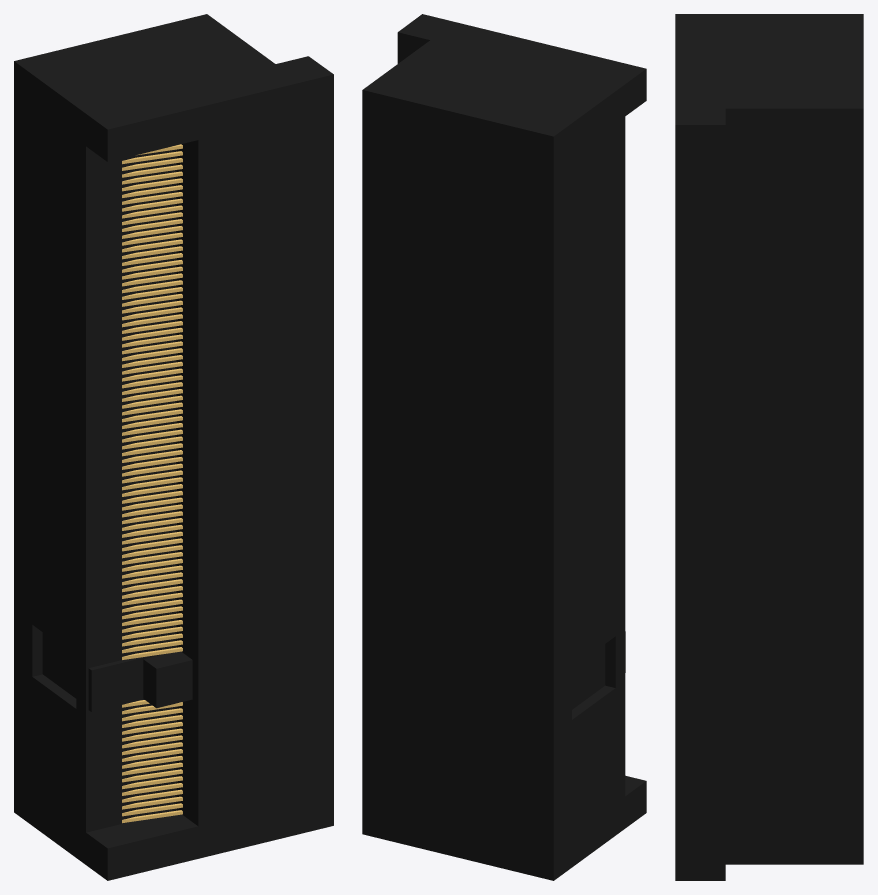
Rendered from nvme.glb.
3 renders of one model, left to right at view 1: azimuth 30°, elevation 25°; view 2: azimuth 150°, elevation 25°; view 3: azimuth 270°, elevation 25°, orthographic.
Parts seen in each view (by area): view 1: Object_79, Object_81; view 2: Object_79; view 3: Object_79.
Boxes of the visible parts, x1=… form: Object_79: x1=14, y1=14, x2=333, y2=880; Object_81: x1=122, y1=144, x2=182, y2=823; Object_79: x1=362, y1=14, x2=646, y2=880; Object_79: x1=675, y1=14, x2=863, y2=880.
Size of the model in its own units: 0.6143 by 1.95 by 0.4403.
